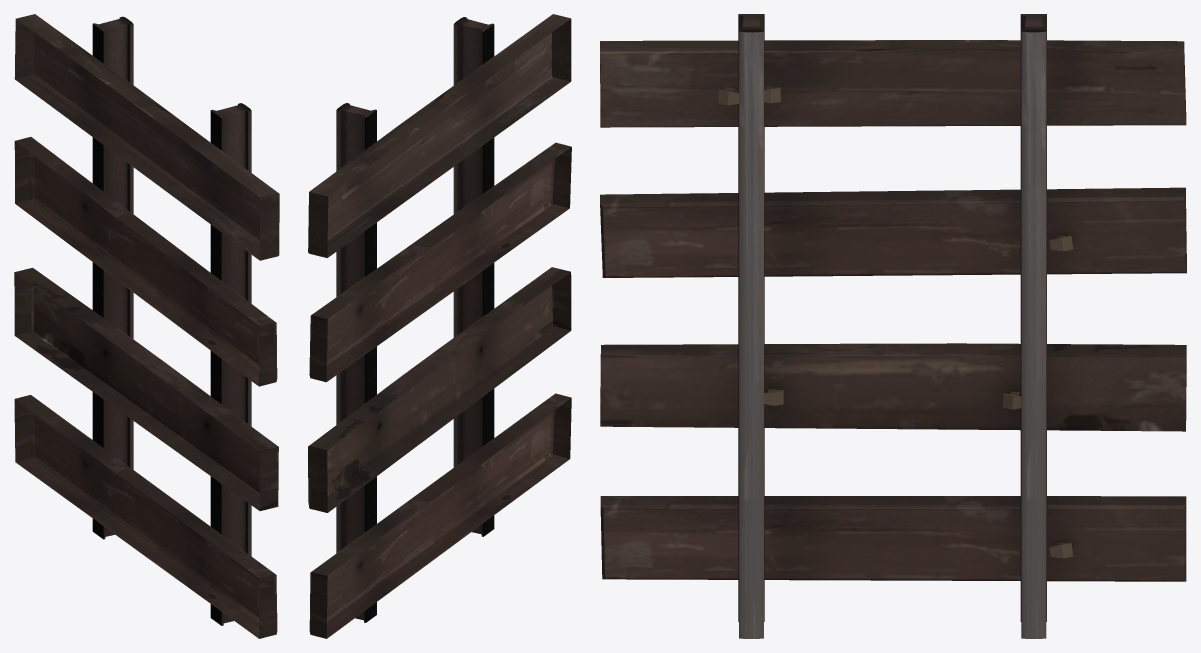
File: props_mining_track_straight_64.glb
3 renders of one model, left to right at view 1: azimuth 30°, elevation 25°; view 2: azimuth 150°, elevation 25°; view 3: azimuth 270°, elevation 25°, orthographic. The views are drawn at different scales.
Parts seen in each view (by area): view 1: models/props_mining/track_straight_64; view 2: models/props_mining/track_straight_64; view 3: models/props_mining/track_straight_64.
Part boxes in pixels (x1=…): models/props_mining/track_straight_64: x1=14, y1=14, x2=279, y2=638; models/props_mining/track_straight_64: x1=308, y1=14, x2=571, y2=638; models/props_mining/track_straight_64: x1=600, y1=14, x2=1186, y2=638.
Bounding box in the file's own units: 6.76 × 64 × 56.11.
1 material, 1 textured.
